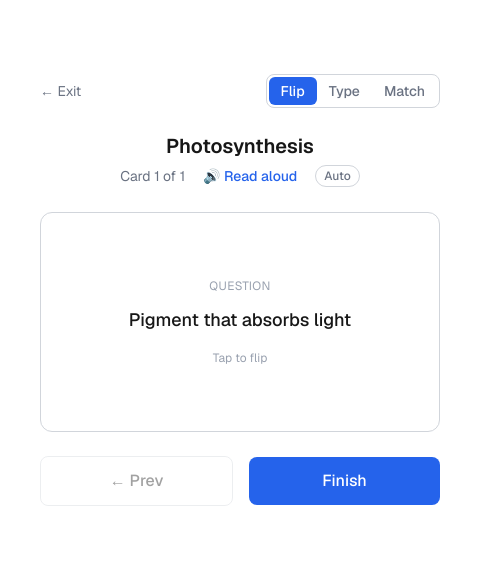
Test: saving study results (#57) › says only the student can see a run that is not for an assignment
Click the button "Question Pigment that absorbs light Tap to flip": {"x": 240, "y": 322} [40, 212, 440, 432]
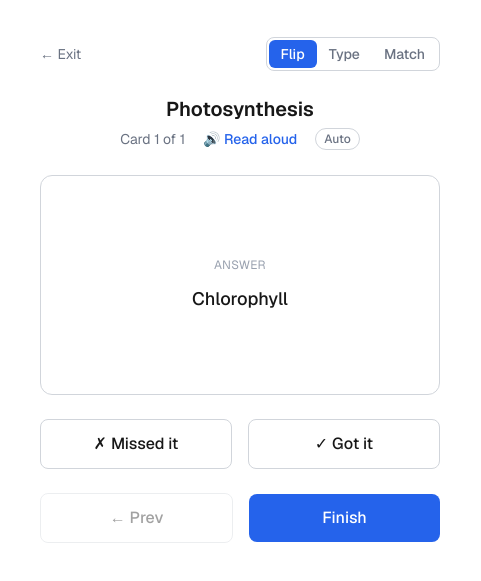
Click the button "✓ Got it": {"x": 344, "y": 444} [248, 419, 440, 469]
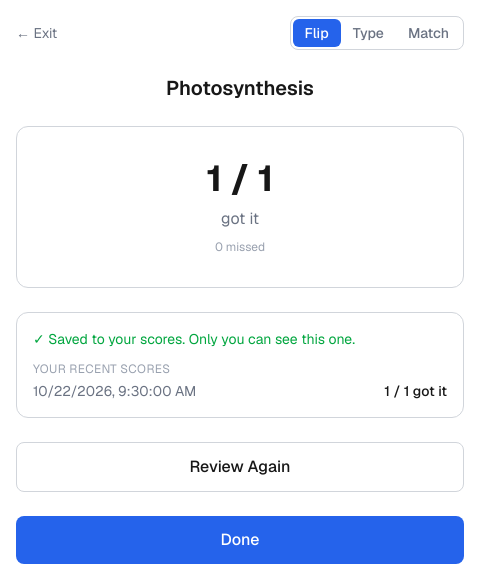
Check: the message reads "✓ Saved to your scores. Only you can see this one.", box [33, 330, 355, 348]
